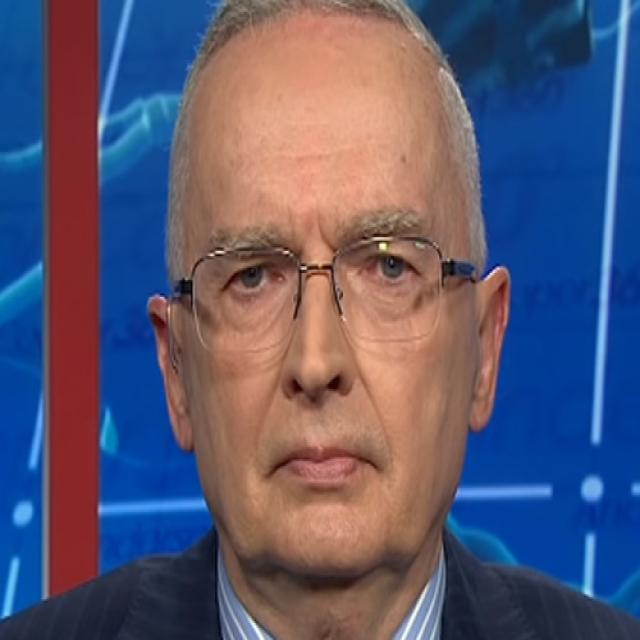human: (85, 1, 532, 640)
